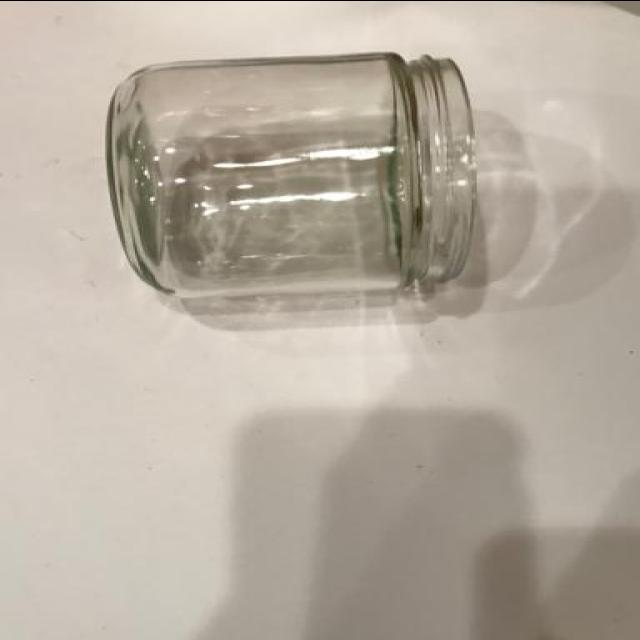glass: (99, 52, 495, 317)
